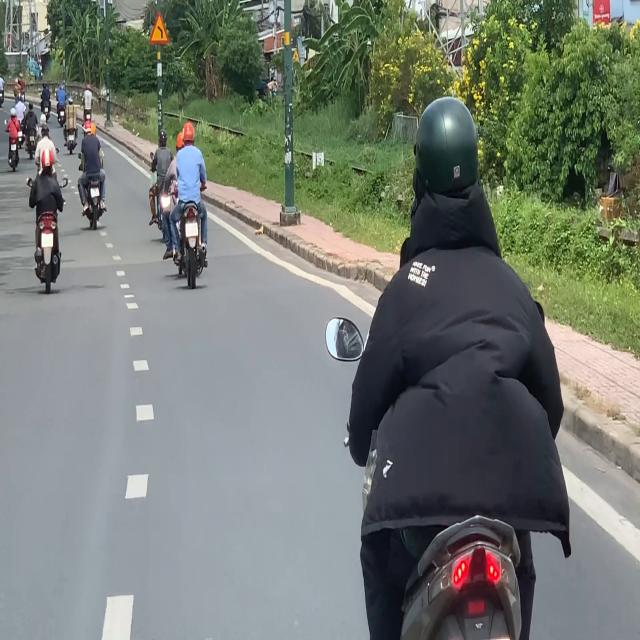Nguy hiem: (150, 12, 170, 43)
